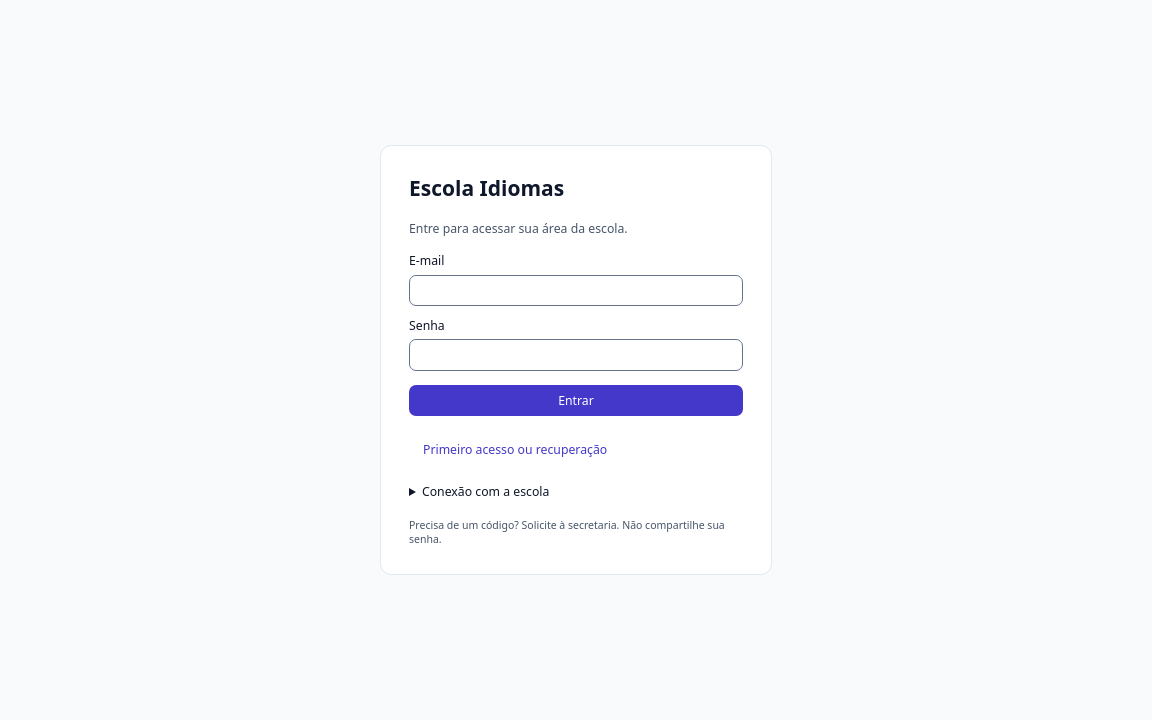
Test: aluno entra em sua área sem cadastros administrativos e sai limpando a sessão
Type "a@escola.test" into the field labelled "E-mail".
click(576, 290); type("a@escola.test")  # box [409,275,743,306]
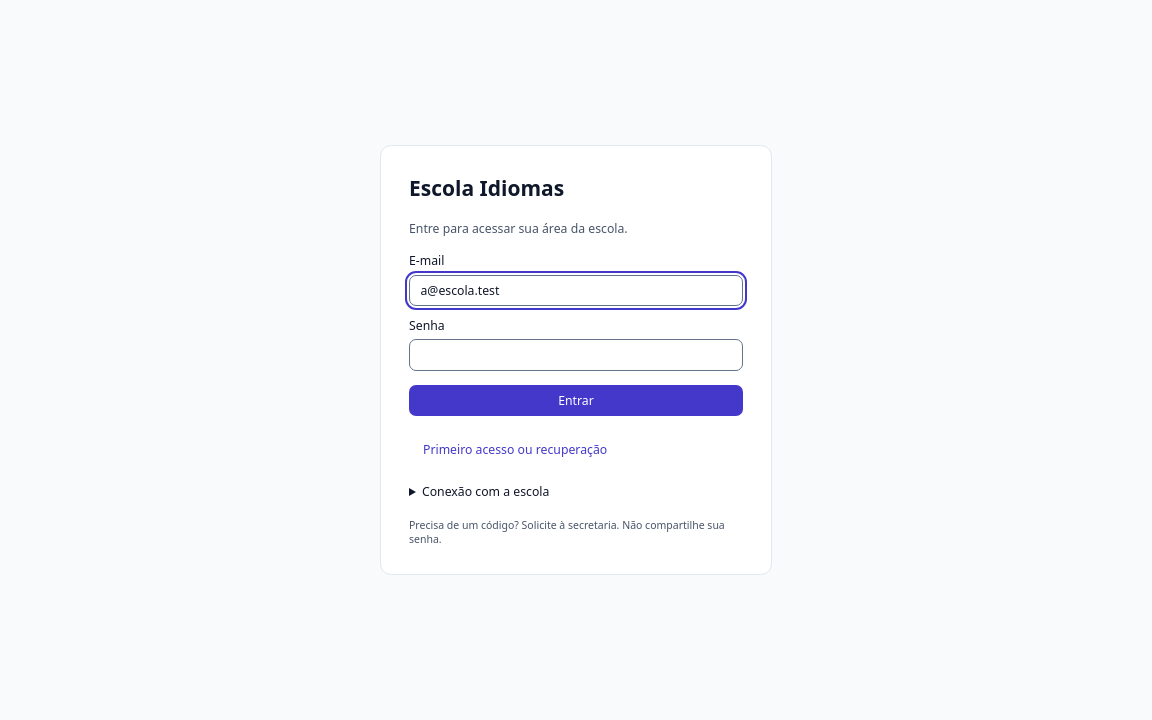
Type "Senha-Aluno-2026!" into the password field labelled "Senha".
click(576, 355); type("Senha-Aluno-2026!")  # box [409,339,743,371]
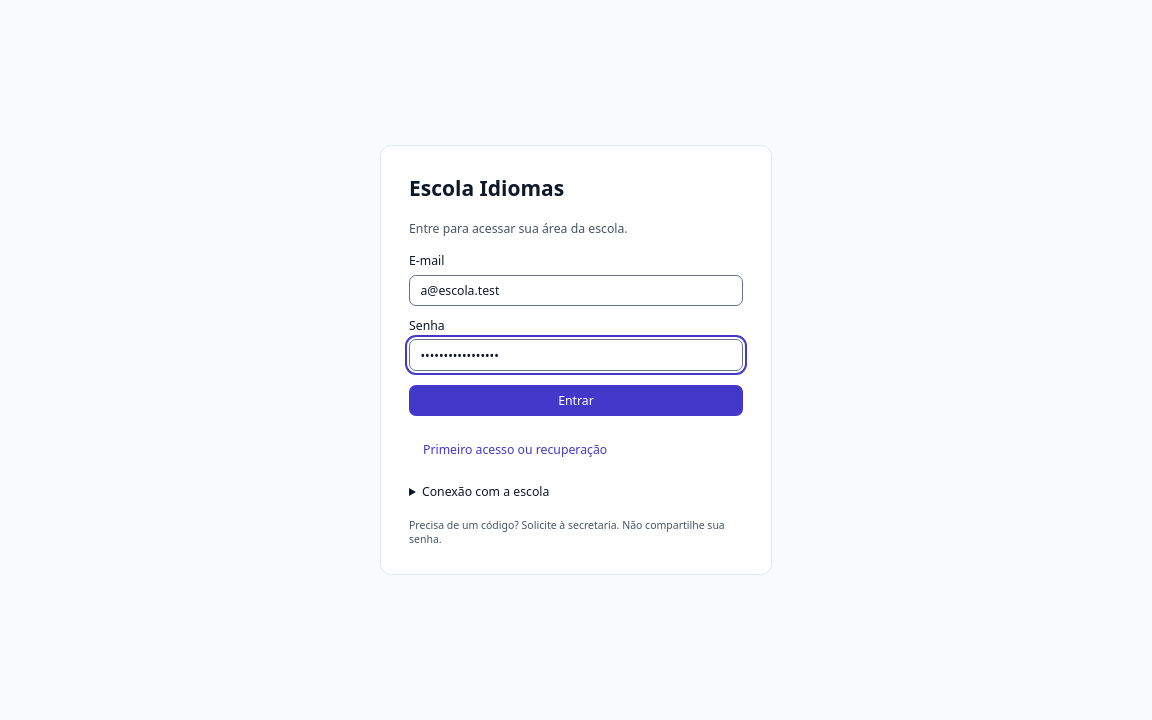
Click the button "Entrar".
click(576, 401)  # box [409,385,743,416]
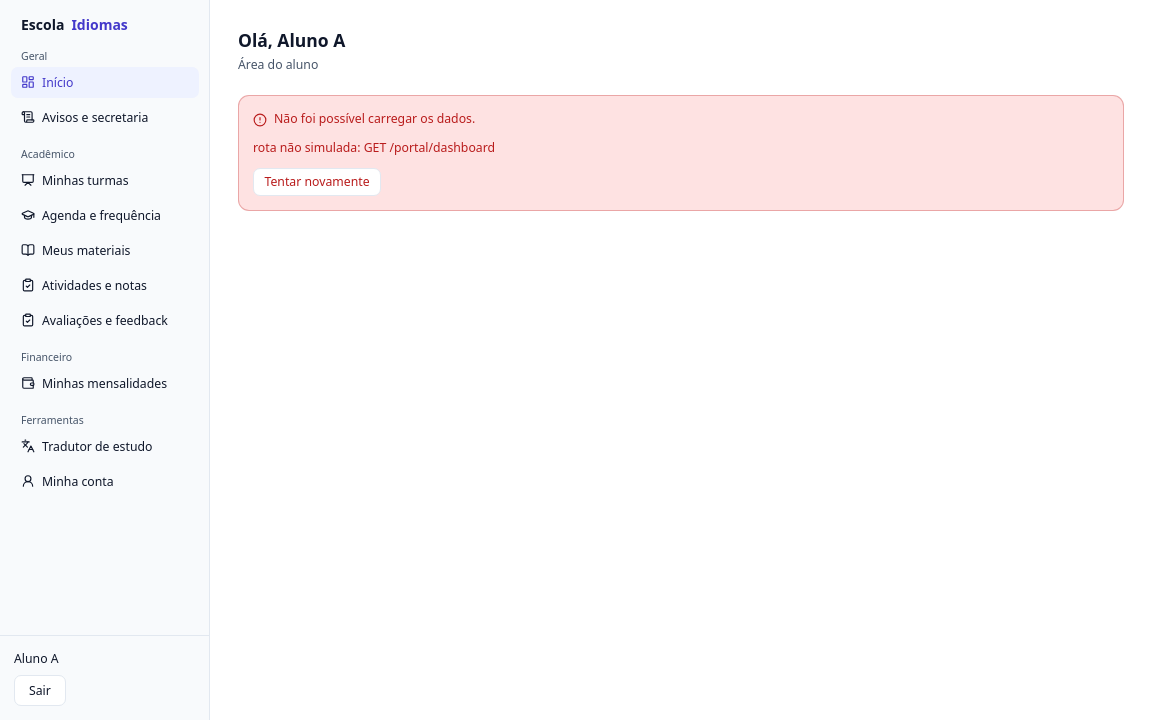
Now the heading "Olá, Aluno A" is shown, box [238,28,345,52]
Click the button "Sair".
click(40, 690)  # box [14,674,66,706]
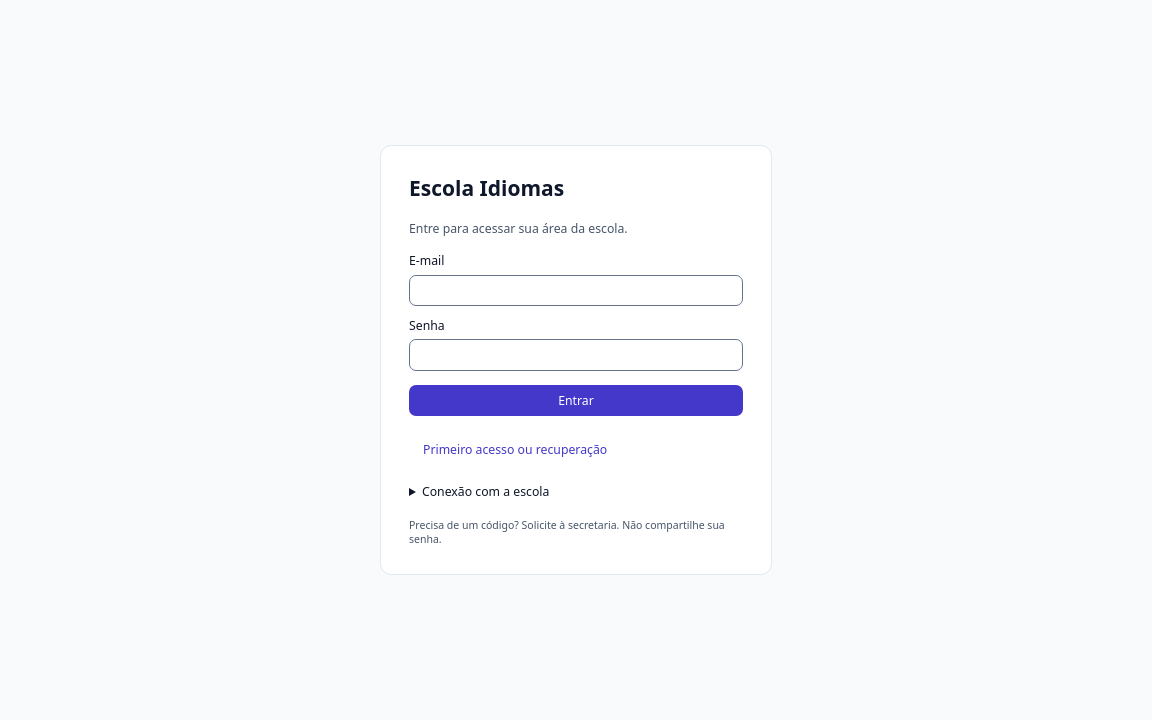
Now the button "Entrar" is shown, box [409,385,743,416]
Now the heading "Olá, Aluno A" is gone
